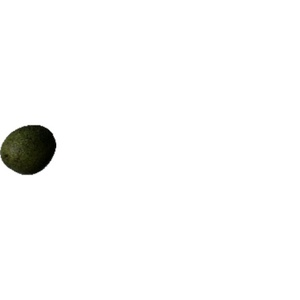abacate: (1, 119, 61, 177)
